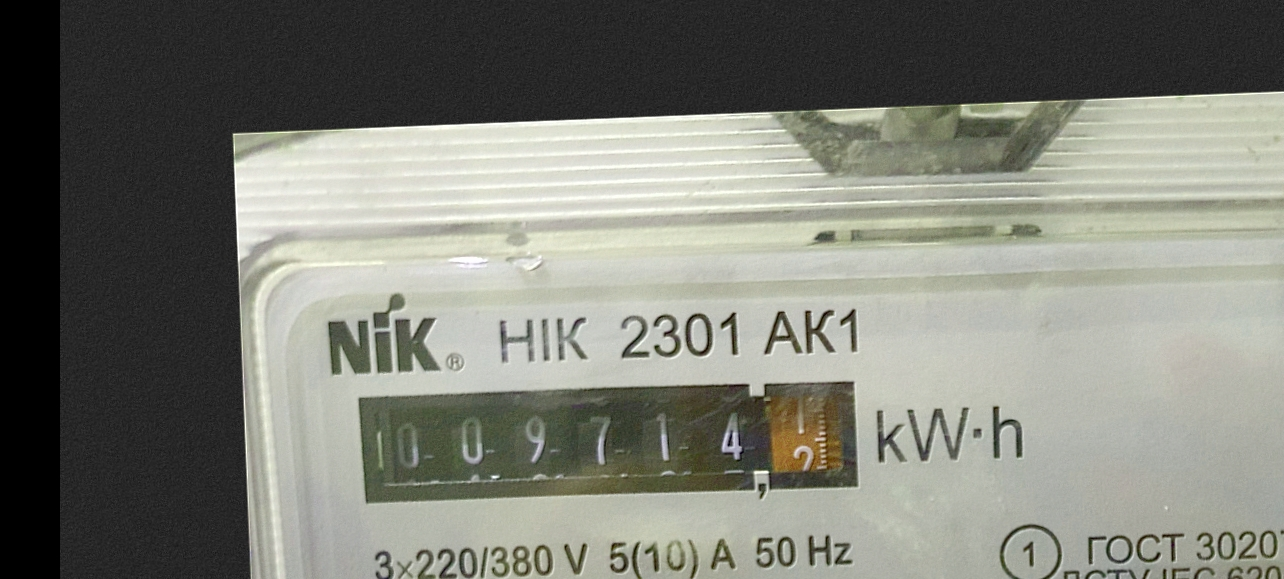0: (393, 418, 424, 472), (458, 412, 486, 466)
1: (652, 407, 676, 463), (792, 393, 808, 436)
2: (791, 441, 816, 472)
4: (717, 408, 747, 464)
7: (587, 412, 615, 467)
9: (520, 412, 550, 465)
screen: (343, 361, 877, 525)
